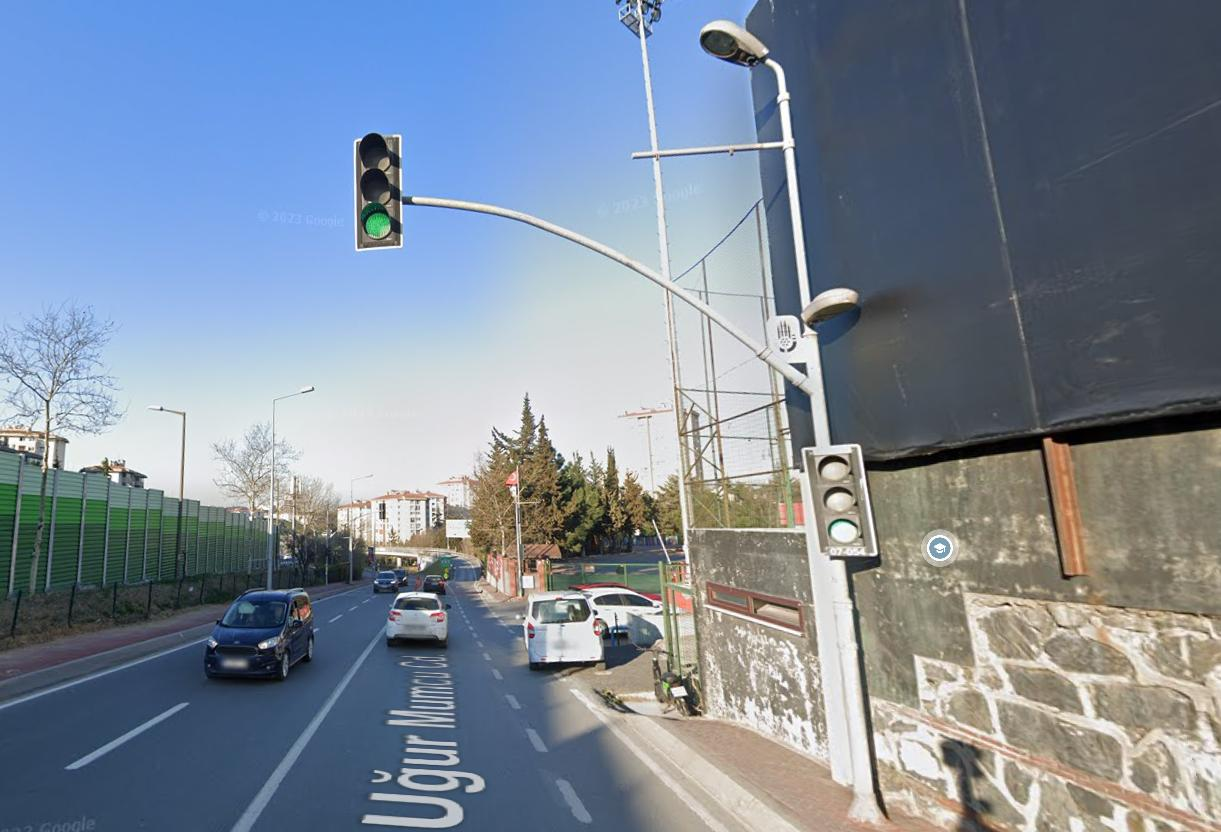greenlight: (339, 121, 415, 256), (809, 447, 874, 552)
